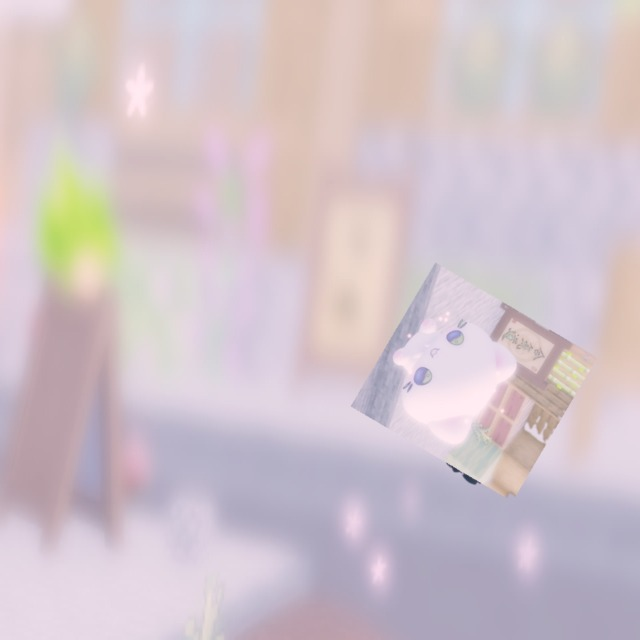urso_branco: (350, 262, 598, 502)
urso_preto: (426, 413, 513, 506)
